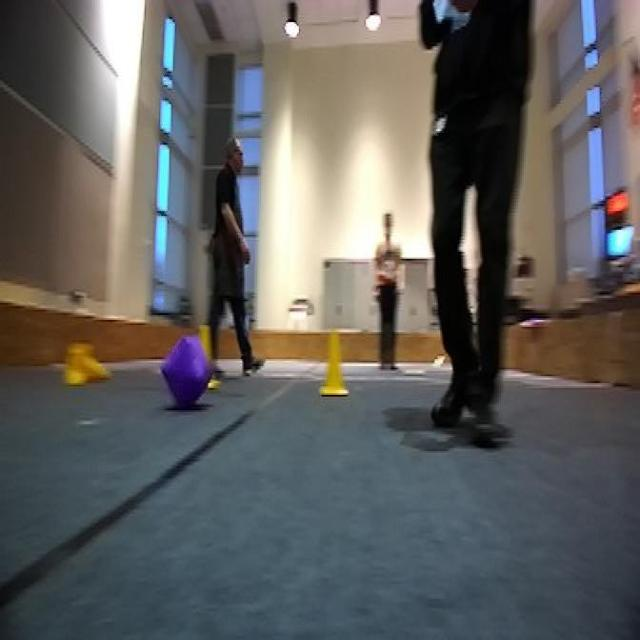frc_cone: (66, 341, 106, 388), (322, 328, 348, 396), (195, 330, 223, 392)
frc_cube: (160, 330, 208, 412)
